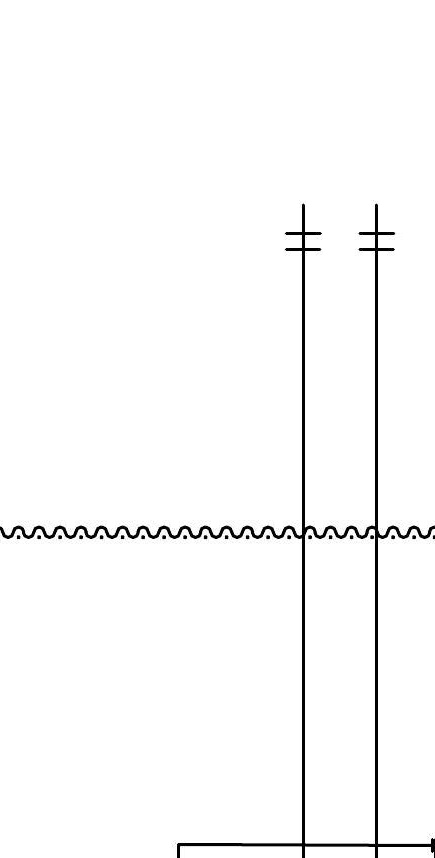115_buffer: (285, 232, 322, 251), (358, 232, 395, 251)
